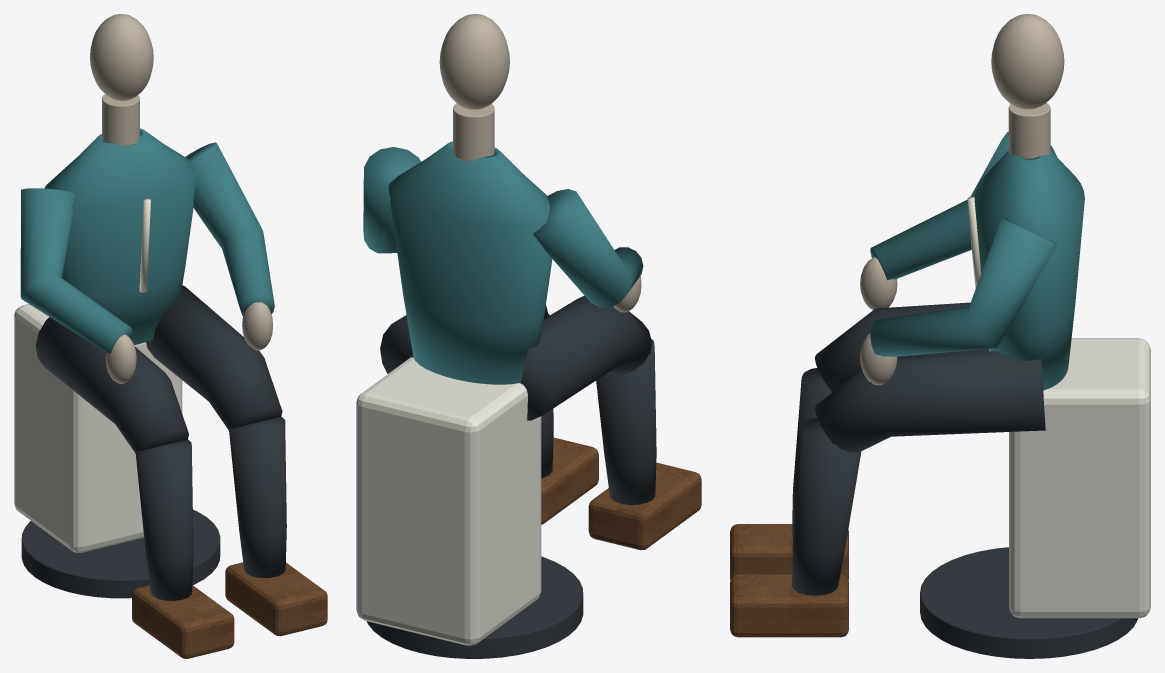
The model's file is horror-seated-mannequin.glb.
The picture shows the model from 3 angles, left to right: view 1: azimuth 30°, elevation 25°; view 2: azimuth 150°, elevation 25°; view 3: azimuth 270°, elevation 25°; orthographic projection. The views are drawn at different scales.
Parts seen in each view (by area): view 1: Original opaque dressed torso, Mannequin integrated seat support, Trouser thigh.001, Trouser thigh, Original long sleeve, Mannequin weighted display plinth, Trouser lower leg.001, Trouser lower leg, Original long sleeve.001, Original plain shoe, Original plain shoe.001, Neutral featureless mannequin head (+4 smaller); view 2: Mannequin integrated seat support, Original opaque dressed torso, Trouser thigh, Trouser lower leg, Mannequin weighted display plinth, Original long sleeve, Original plain shoe, Neutral featureless mannequin head, Original long sleeve.001, Original plain shoe.001, Featureless mannequin neck, Trouser thigh.001 (+1 smaller); view 3: Mannequin integrated seat support, Trouser thigh.001, Original opaque dressed torso, Mannequin weighted display plinth, Original long sleeve.001, Trouser lower leg.001, Original plain shoe.001, Neutral featureless mannequin head, Original long sleeve, Original plain shoe, Trouser thigh, Featureless mannequin neck (+4 smaller).
Part boxes in pixels (box(x1,y1,x2,y2)): Original opaque dressed torso: box(44, 128, 196, 344); Mannequin integrated seat support: box(14, 304, 182, 552); Trouser thigh.001: box(146, 285, 282, 430); Trouser thigh: box(36, 317, 188, 453); Original long sleeve: box(20, 188, 132, 353); Mannequin weighted display plinth: box(21, 509, 220, 598); Trouser lower leg.001: box(229, 416, 286, 577); Trouser lower leg: box(135, 439, 193, 600); Original long sleeve.001: box(185, 142, 274, 315); Original plain shoe: box(132, 585, 234, 658); Original plain shoe.001: box(225, 562, 327, 636); Neutral featureless mannequin head: box(90, 14, 153, 100); Mannequin integrated seat support: box(356, 357, 541, 645); Original opaque dressed torso: box(388, 141, 552, 384); Trouser thigh: box(520, 295, 651, 420); Trouser lower leg: box(596, 338, 656, 504); Mannequin weighted display plinth: box(367, 556, 583, 658); Original long sleeve: box(533, 189, 643, 307); Original plain shoe: box(588, 462, 701, 550); Neutral featureless mannequin head: box(439, 14, 509, 109); Original long sleeve.001: box(363, 147, 421, 253); Original plain shoe.001: box(541, 437, 598, 524); Featureless mannequin neck: box(453, 103, 494, 161); Trouser thigh.001: box(380, 305, 548, 373); Mannequin integrated seat support: box(1009, 338, 1150, 618); Trouser thigh.001: box(814, 351, 1045, 452); Original opaque dressed torso: box(974, 150, 1084, 390); Mannequin weighted display plinth: box(920, 547, 1137, 658); Original long sleeve.001: box(870, 217, 1057, 356); Trouser lower leg.001: box(792, 418, 861, 595); Original plain shoe.001: box(730, 574, 848, 637); Neutral featureless mannequin head: box(991, 14, 1064, 109); Original long sleeve: box(870, 131, 1056, 280); Original plain shoe: box(730, 524, 848, 580); Trouser thigh: box(815, 302, 988, 391); Featureless mannequin neck: box(1008, 102, 1050, 158).
Size of the model in its own units: 0.6677 by 1.44 by 0.92.
7 materials, 7 textured.
